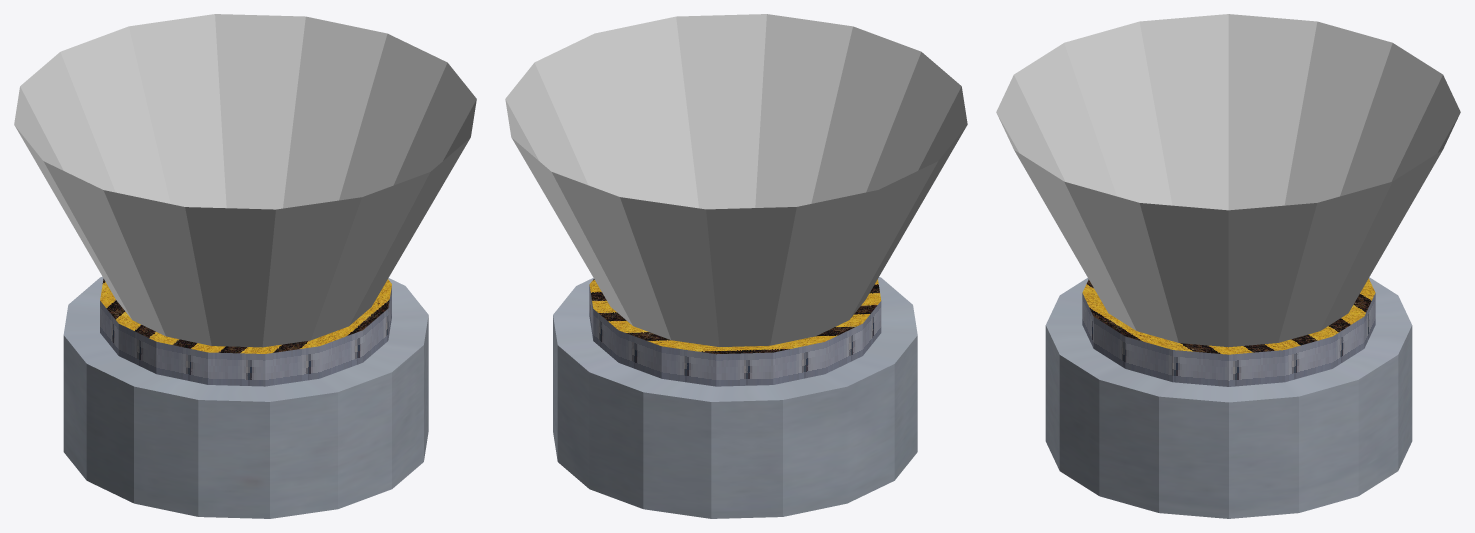
The model's file is terminal.dae.
3 renders of one model, left to right at view 1: azimuth 30°, elevation 25°; view 2: azimuth 150°, elevation 25°; view 3: azimuth 270°, elevation 25°, orthographic.
Visible parts, largest first — view 1: ray, terminal; view 2: ray, terminal; view 3: ray, terminal.
Boxes of the visible parts, left/top/right/bottom form: ray: left=14, top=14, right=476, bottom=347; terminal: left=63, top=276, right=428, bottom=518; ray: left=505, top=14, right=967, bottom=347; terminal: left=553, top=277, right=917, bottom=518; ray: left=996, top=14, right=1460, bottom=347; terminal: left=1045, top=277, right=1412, bottom=518.
Bounding box in the file's own units: 39.08 × 39.08 × 32.95.
5 materials, 3 textured.
